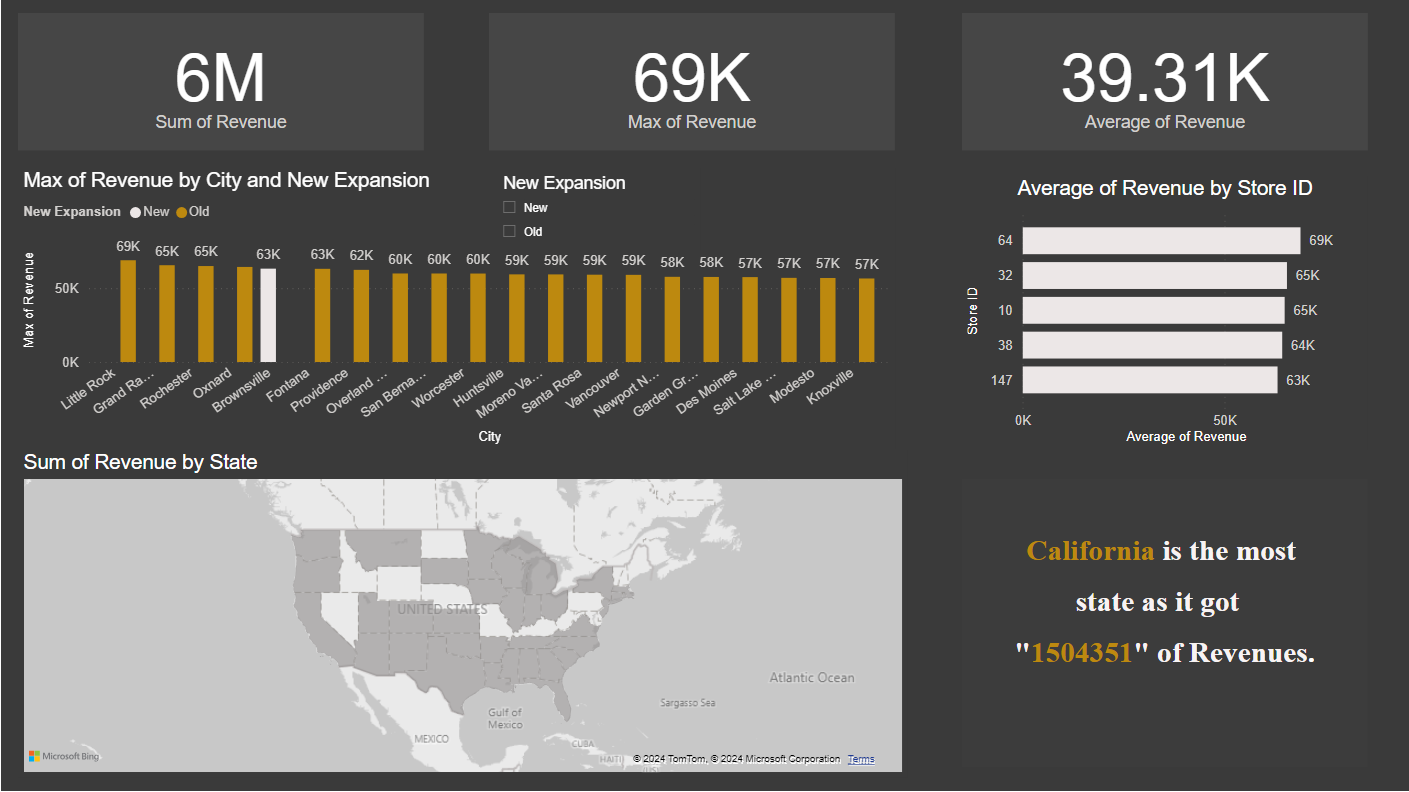

What the dashboard file says about the page in this screenshot:
{"tool":"powerbi","page":{"name":"SALES","canvas":[1280,720],"ordinal":1},"visuals":[{"type":"card","fields":{"Values":["Sum(startup-expansion-modified.Revenue)"]},"box":[15.5,13.1,368.9,125],"z":0},{"type":"card","fields":{"Values":["Max(startup-expansion-modified.Revenue)"]},"box":[443.9,13.1,368.9,125],"z":1000},{"type":"card","fields":{"Values":["Avg(startup-expansion-modified.Revenue)"]},"box":[873.5,13.1,368.9,125],"z":2000},{"type":"map","fields":{"Size":["Sum(startup-expansion-modified.Revenue)"],"Category":["startup-expansion-modified.State"]},"box":[15.1,409.9,808.9,297.5],"z":3000},{"type":"clusteredColumnChart","fields":{"Y":["Max(startup-expansion-modified.Revenue)"],"Category":["startup-expansion-modified.City"],"Series":["startup-expansion-modified.New Expansion"]},"box":[15.1,153.6,797.9,256.4],"z":4000},{"type":"slicer","fields":{"Values":["startup-expansion-modified.New Expansion"]},"box":[444.2,153.6,191.9,98.7],"z":5000},{"type":"textbox","box":[873.4,436,368.8,261.9],"z":6000},{"type":"clusteredBarChart","fields":{"Category":["startup-expansion-modified.Store ID"],"Y":["Avg(startup-expansion-modified.Revenue)"]},"box":[874,154,369,256],"z":7000}]}

Visuals, with their boxes in screenshot pixels (x1, y1, x2, y2), scaled from the page's 1280x720 canvas onto the 1409x792 screenshot:
card - Sum(startup-expansion-modified.Revenue): {"x1": 17, "y1": 14, "x2": 423, "y2": 152}
card - Max(startup-expansion-modified.Revenue): {"x1": 489, "y1": 14, "x2": 895, "y2": 152}
card - Avg(startup-expansion-modified.Revenue): {"x1": 962, "y1": 14, "x2": 1368, "y2": 152}
map - Sum(startup-expansion-modified.Revenue) x startup-expansion-modified.State: {"x1": 17, "y1": 451, "x2": 907, "y2": 778}
clusteredColumnChart - Max(startup-expansion-modified.Revenue) x startup-expansion-modified.City: {"x1": 17, "y1": 169, "x2": 895, "y2": 451}
slicer - startup-expansion-modified.New Expansion: {"x1": 489, "y1": 169, "x2": 700, "y2": 278}
textbox: {"x1": 961, "y1": 480, "x2": 1367, "y2": 768}
clusteredBarChart - startup-expansion-modified.Store ID x Avg(startup-expansion-modified.Revenue): {"x1": 962, "y1": 169, "x2": 1368, "y2": 451}
